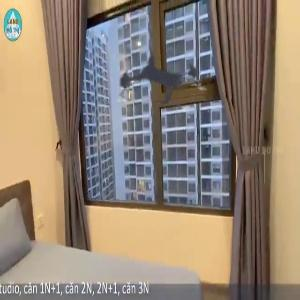drone: (94, 11, 234, 151)
